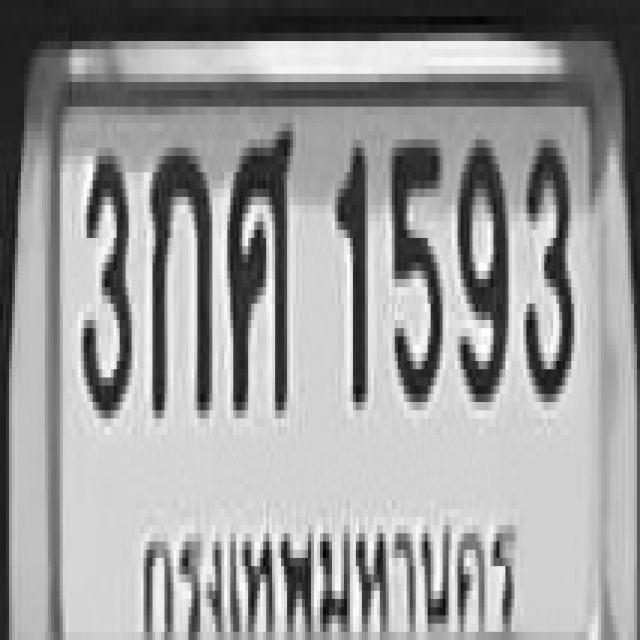1: (332, 135, 365, 398)
10GorGai: (150, 140, 210, 410)
3: (520, 131, 572, 394), (78, 148, 128, 410)
47SorSala: (227, 119, 290, 406)
5: (388, 127, 439, 398)
9: (454, 131, 506, 394)
Bangkok: (127, 492, 525, 640)
